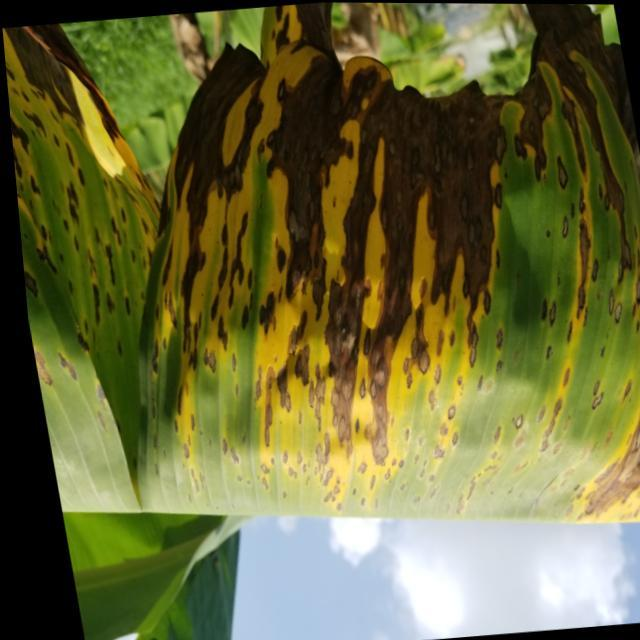Early_rust: (0, 13, 640, 550)
